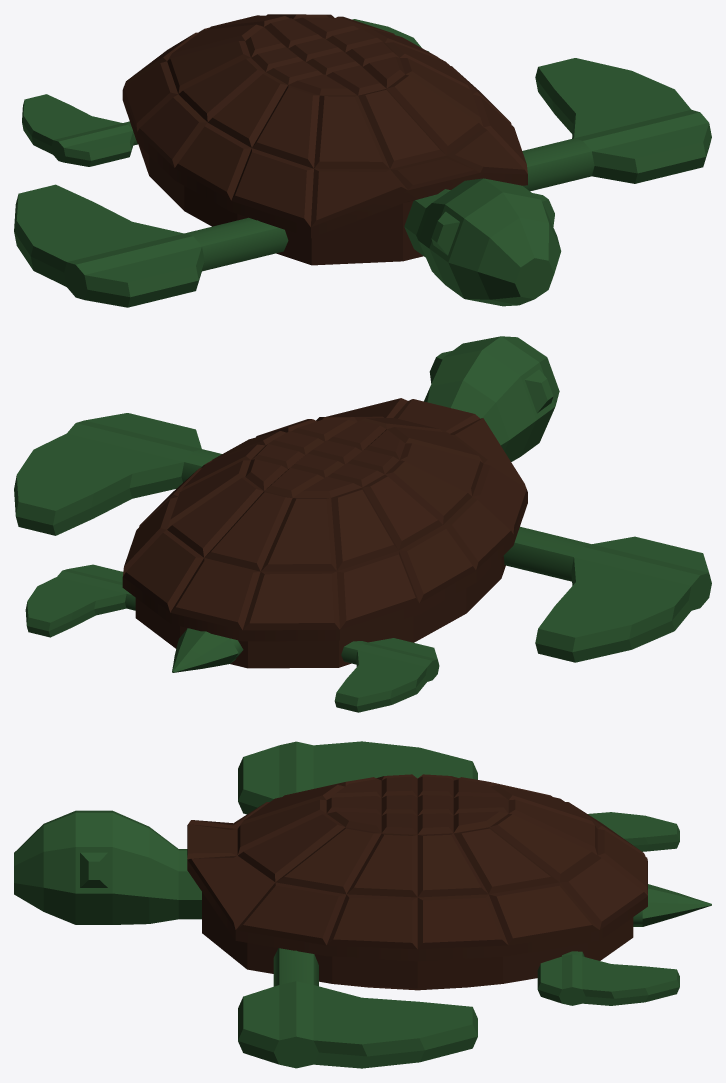
Rendered from Turtle02.fbx.
3 renders of one model, top to bottom at view 1: azimuth 30°, elevation 25°; view 2: azimuth 150°, elevation 25°; view 3: azimuth 270°, elevation 25°, orthographic. The views are drawn at different scales.
Visible parts, largest first — view 1: Turtle_Shell, Turtle_FrontFlipperRight, Turtle_FrontFlipperLeft, Turtle_Head, Turtle_BackFlipper; view 2: Turtle_Shell, Turtle_FrontFlipperRight, Turtle_FrontFlipperLeft, Turtle_BackFlipper, Turtle_Head, Turtle_Tail; view 3: Turtle_Shell, Turtle_FrontFlipperLeft, Turtle_Head, Turtle_FrontFlipperRight, Turtle_BackFlipper, Turtle_Tail.
Part boxes in pixels (left/top/right/bottom): Turtle_Shell: left=122, top=14, right=527, bottom=265; Turtle_FrontFlipperRight: left=14, top=184, right=288, bottom=307; Turtle_FrontFlipperLeft: left=522, top=58, right=711, bottom=191; Turtle_Head: left=404, top=178, right=561, bottom=306; Turtle_BackFlipper: left=22, top=19, right=428, bottom=166; Turtle_Shell: left=122, top=398, right=527, bottom=668; Turtle_FrontFlipperRight: left=503, top=526, right=711, bottom=662; Turtle_FrontFlipperLeft: left=14, top=413, right=221, bottom=535; Turtle_BackFlipper: left=25, top=564, right=439, bottom=712; Turtle_Head: left=424, top=336, right=559, bottom=461; Turtle_Tail: left=172, top=628, right=243, bottom=672; Turtle_Shell: left=187, top=774, right=647, bottom=990; Turtle_FrontFlipperLeft: left=238, top=948, right=477, bottom=1068; Turtle_Head: left=14, top=810, right=201, bottom=924; Turtle_FrontFlipperRight: left=238, top=741, right=477, bottom=814; Turtle_BackFlipper: left=537, top=812, right=679, bottom=1005; Turtle_Tail: left=633, top=884, right=711, bottom=926.
Size of the model in its own units: 59.08 by 13.57 by 57.52.
